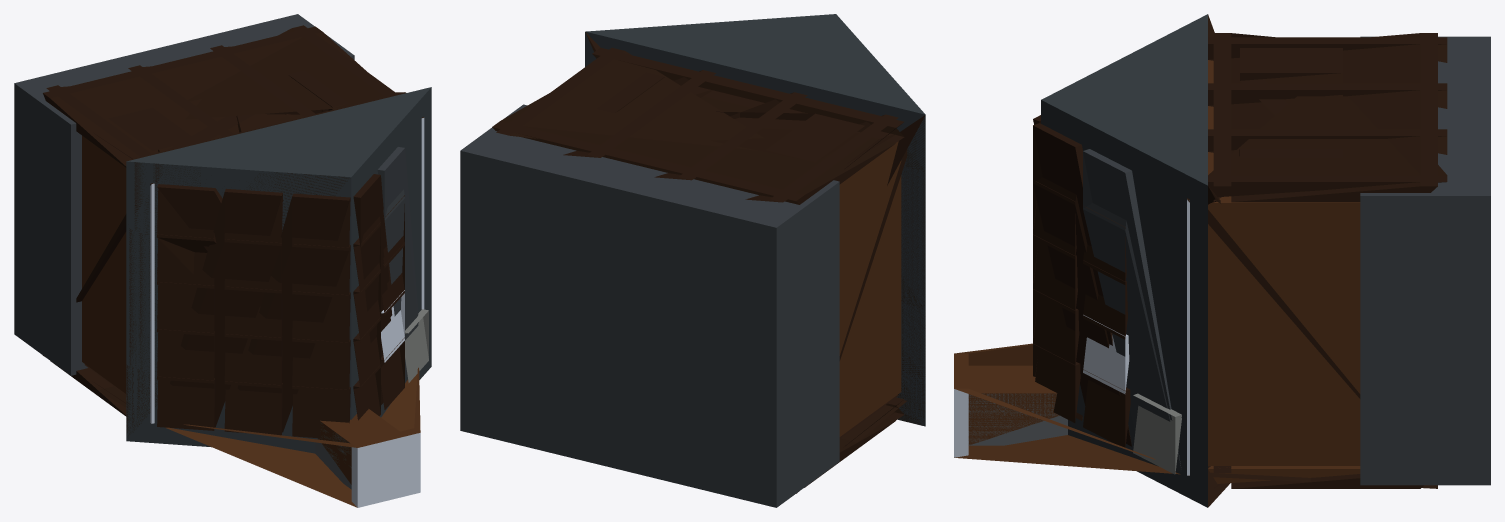
The model's file is Northern_Longhouse.obj.
3 views of the same model, side by side, from view 1: azimuth 30°, elevation 25°; view 2: azimuth 150°, elevation 25°; view 3: azimuth 270°, elevation 25° (orthographic). The views are drawn at different scales.
Parts seen in each view (by area): view 1: Northern_Longhouse; view 2: Northern_Longhouse; view 3: Northern_Longhouse.
Part boxes in pixels (x1,y1,x2,y2): Northern_Longhouse: (14, 14, 431, 507); Northern_Longhouse: (460, 14, 925, 507); Northern_Longhouse: (954, 14, 1490, 507).
Bounding box in the file's own units: 560 × 518 × 740.
